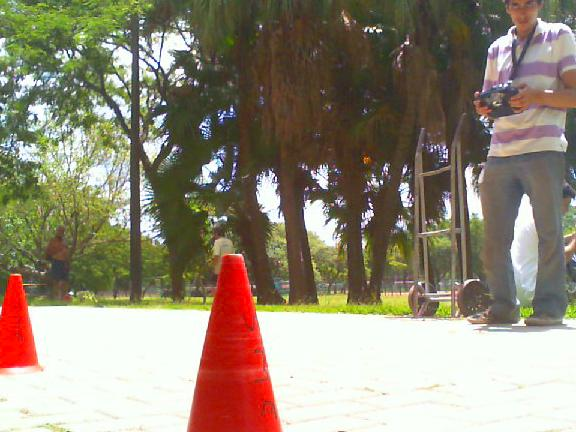0 cone: (181, 255, 286, 432), (0, 275, 44, 373)
